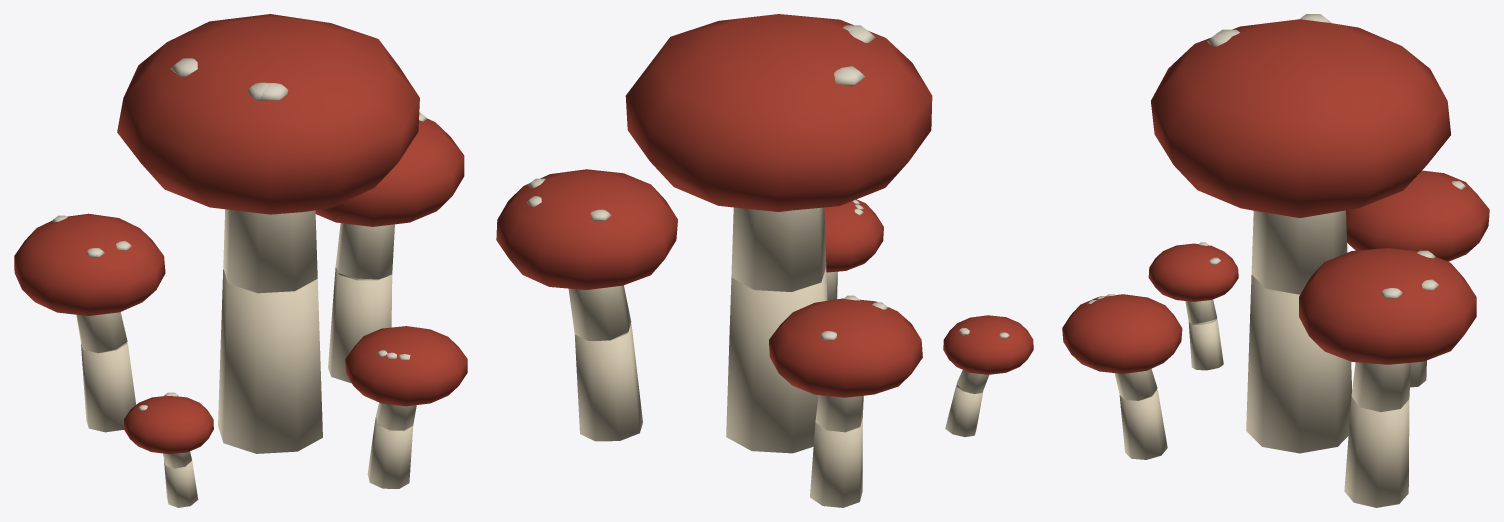
File: mushroom.glb
3 renders of one model, left to right at view 1: azimuth 30°, elevation 25°; view 2: azimuth 150°, elevation 25°; view 3: azimuth 270°, elevation 25°, orthographic.
Visible parts, largest first — view 1: Mushroom; view 2: Mushroom; view 3: Mushroom.
Part boxes in pixels (x1=…): Mushroom: x1=14, y1=14, x2=467, y2=507; Mushroom: x1=496, y1=14, x2=1033, y2=507; Mushroom: x1=1062, y1=14, x2=1489, y2=507.
Size of the model in its own units: 0.6233 by 0.5622 by 0.5572.
